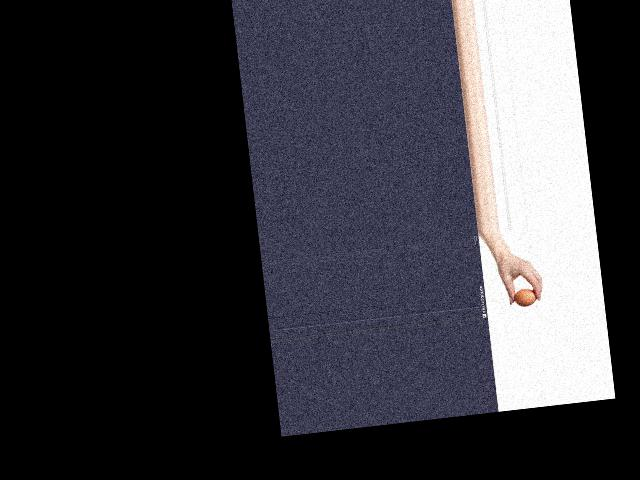egg: (513, 287, 536, 307)
